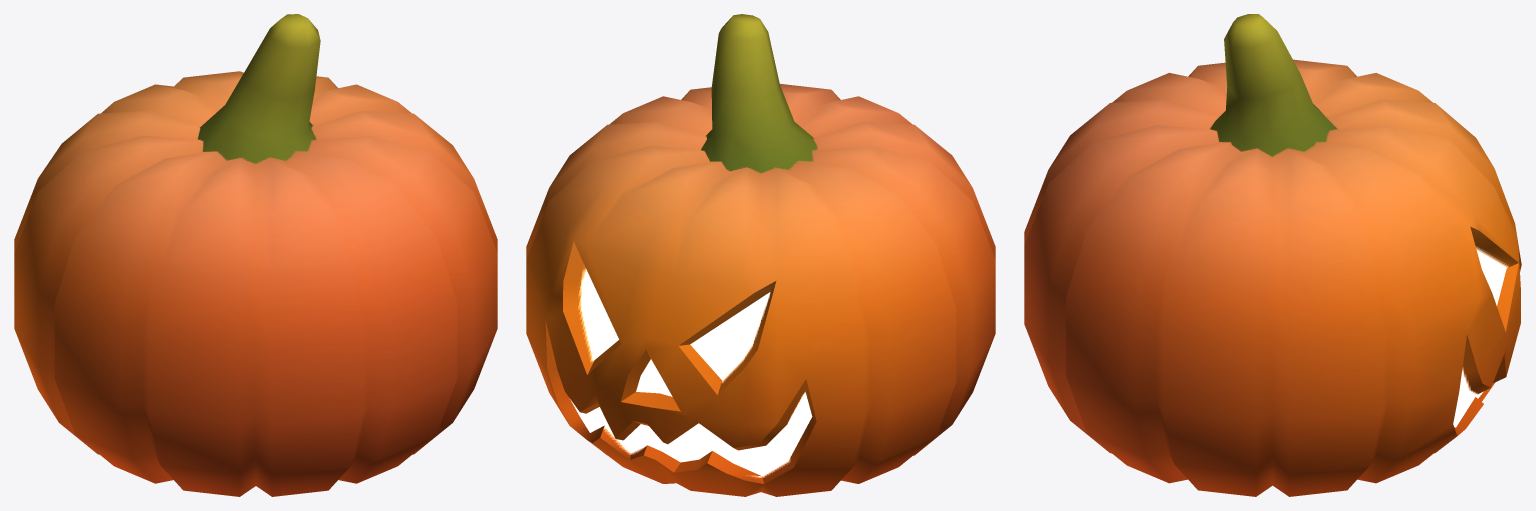
Rendered from DCR0110014.fbx.
3 views of the same model, side by side, from view 1: azimuth 30°, elevation 25°; view 2: azimuth 150°, elevation 25°; view 3: azimuth 270°, elevation 25° (orthographic). The views are drawn at different scales.
Parts seen in each view (by area): view 1: smDCR0110014; view 2: smDCR0110014; view 3: smDCR0110014.
Part boxes in pixels (box(x1,y1,x2,y2)): smDCR0110014: box(14, 14, 497, 496); smDCR0110014: box(526, 14, 995, 496); smDCR0110014: box(1024, 14, 1521, 496).
Bounding box in the file's own units: 108 × 104 × 108.
Materials: 1 (1 with a texture image).
